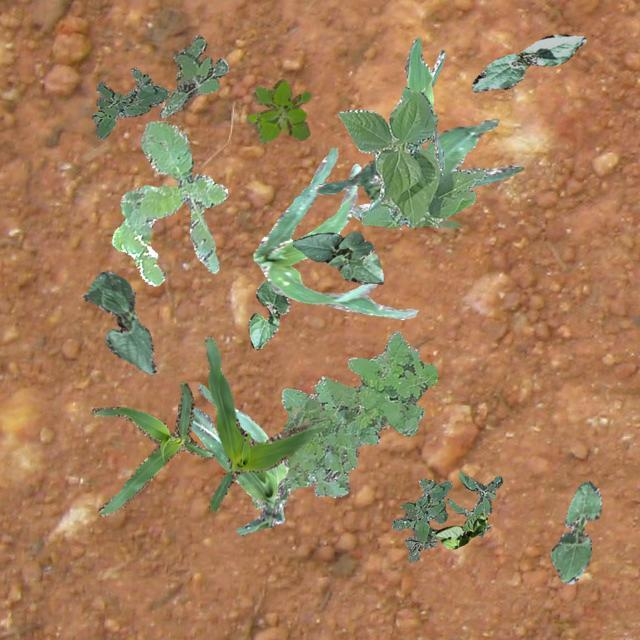crop: (253, 146, 417, 318), (314, 118, 522, 226), (204, 334, 324, 510), (336, 86, 486, 226), (90, 380, 212, 516), (358, 38, 444, 216), (190, 382, 290, 534), (82, 270, 156, 374), (470, 33, 584, 90), (550, 481, 600, 584), (292, 230, 382, 284), (246, 278, 288, 348), (434, 512, 486, 548)
weed: (250, 330, 437, 508), (110, 120, 228, 284), (158, 34, 228, 116), (90, 66, 168, 138), (390, 478, 450, 560), (246, 78, 310, 142), (446, 472, 502, 536)
